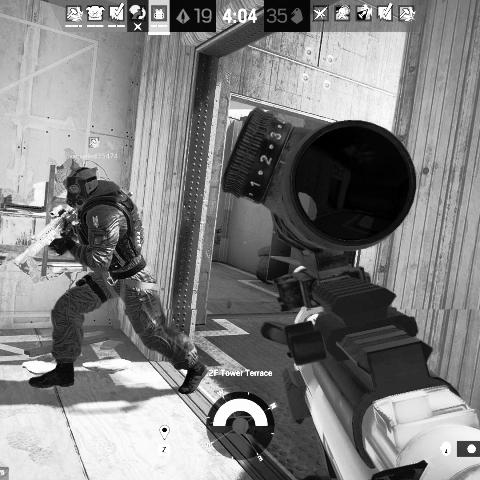Character: (27, 164, 210, 399)
Friend_label: (67, 135, 119, 160)
Head: (61, 164, 102, 207)
